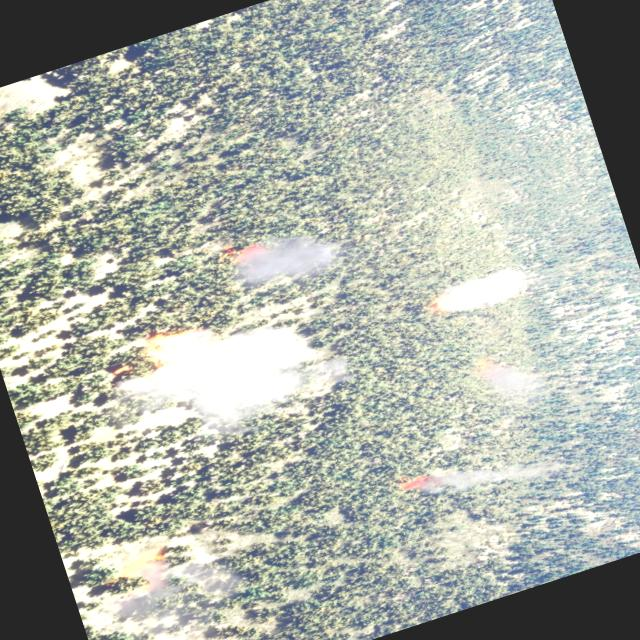fire: (130, 314, 214, 384), (110, 541, 180, 599), (388, 470, 434, 506), (218, 238, 264, 271), (464, 350, 501, 380), (434, 292, 458, 318)
smoke: (117, 286, 368, 461), (87, 524, 246, 640), (417, 432, 570, 514), (226, 218, 352, 298), (436, 261, 532, 325), (460, 354, 548, 416)
